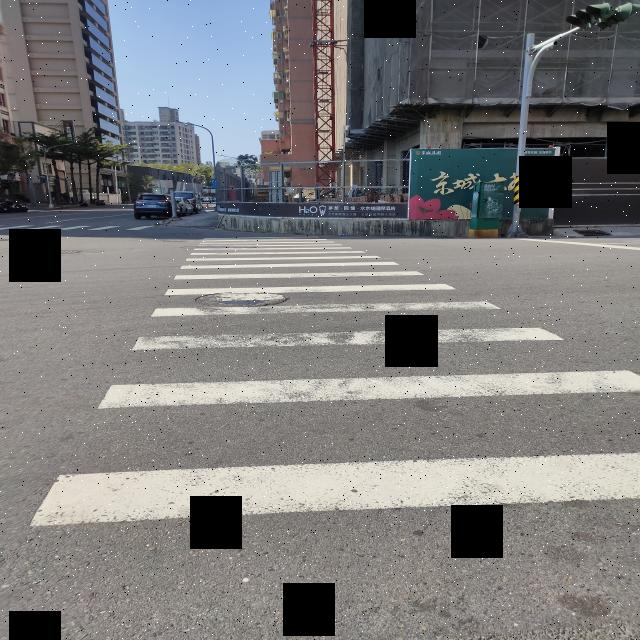zebra_crossing: (187, 0, 206, 510)
